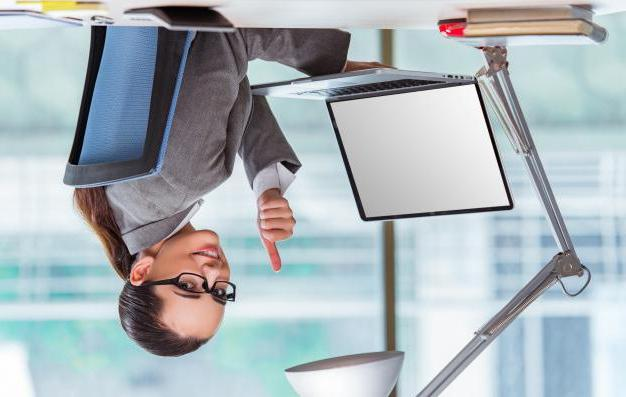thumbsdown: (259, 198, 296, 274)
